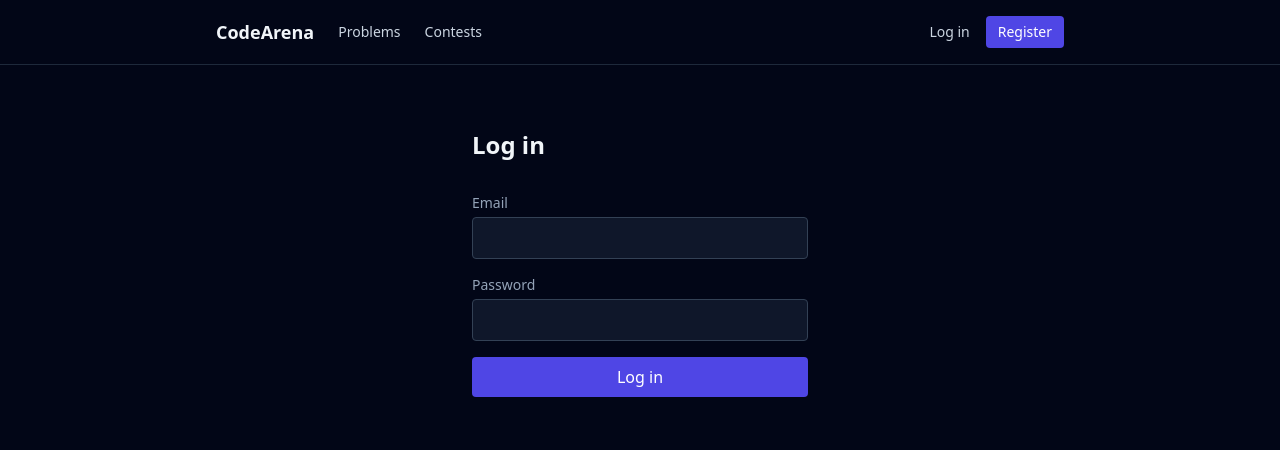
Test: LoginPage › shows an error message on failed login
In the field labelled "Email": point(640, 238) [472,217,808,259], type "user@example.com"
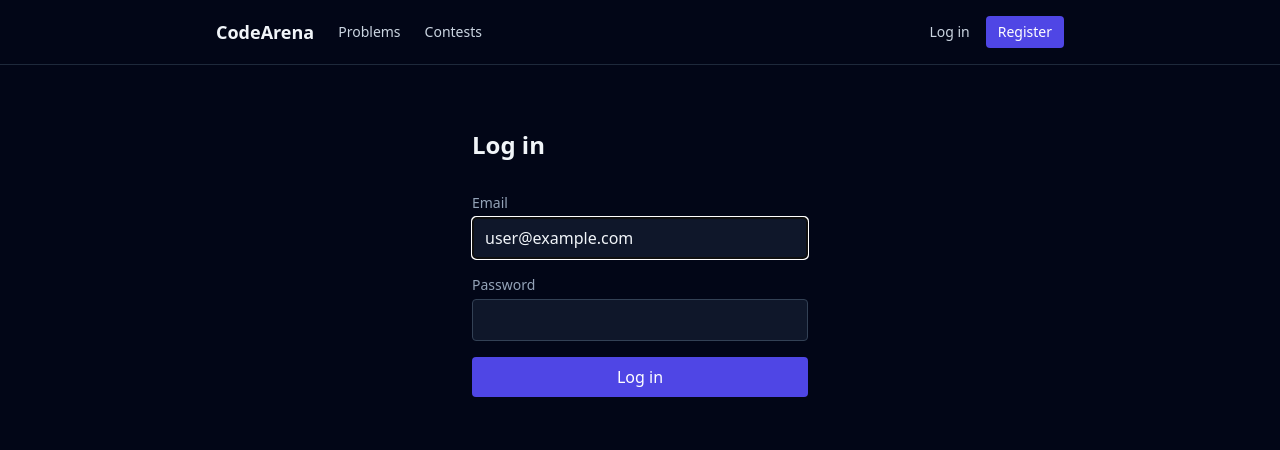
In the password field labelled "Password": point(640, 320) [472,299,808,341], type "wrong-password"
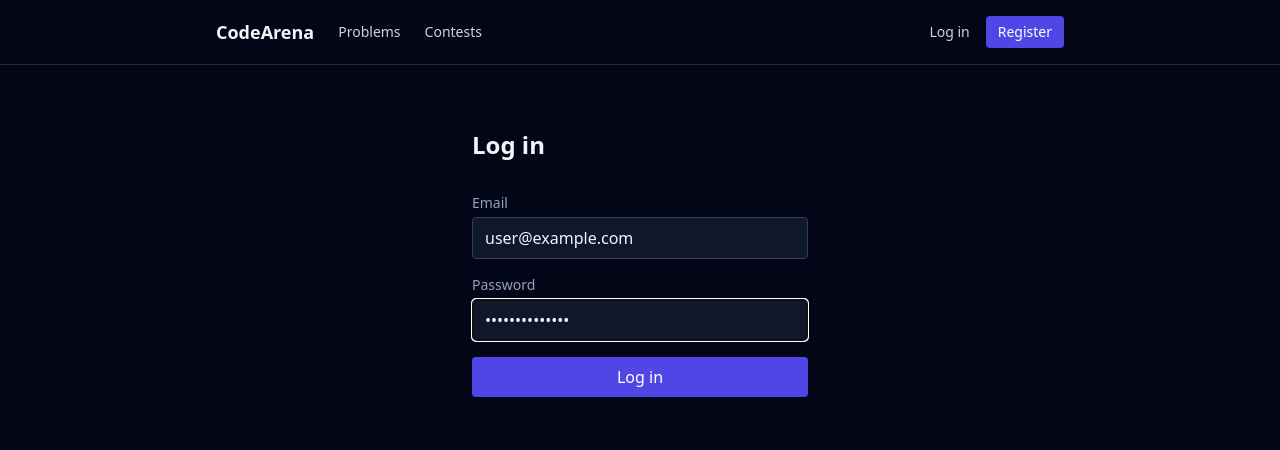
Click the button "Log in": point(640, 377) [472,357,808,397]
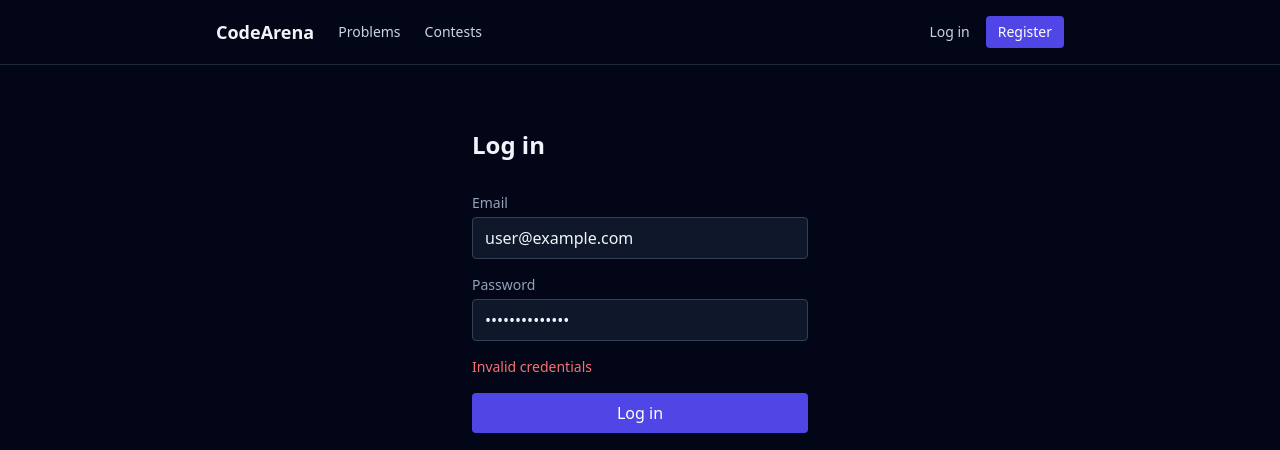
Expected: the message reads "Invalid credentials", [472,357,592,376]
